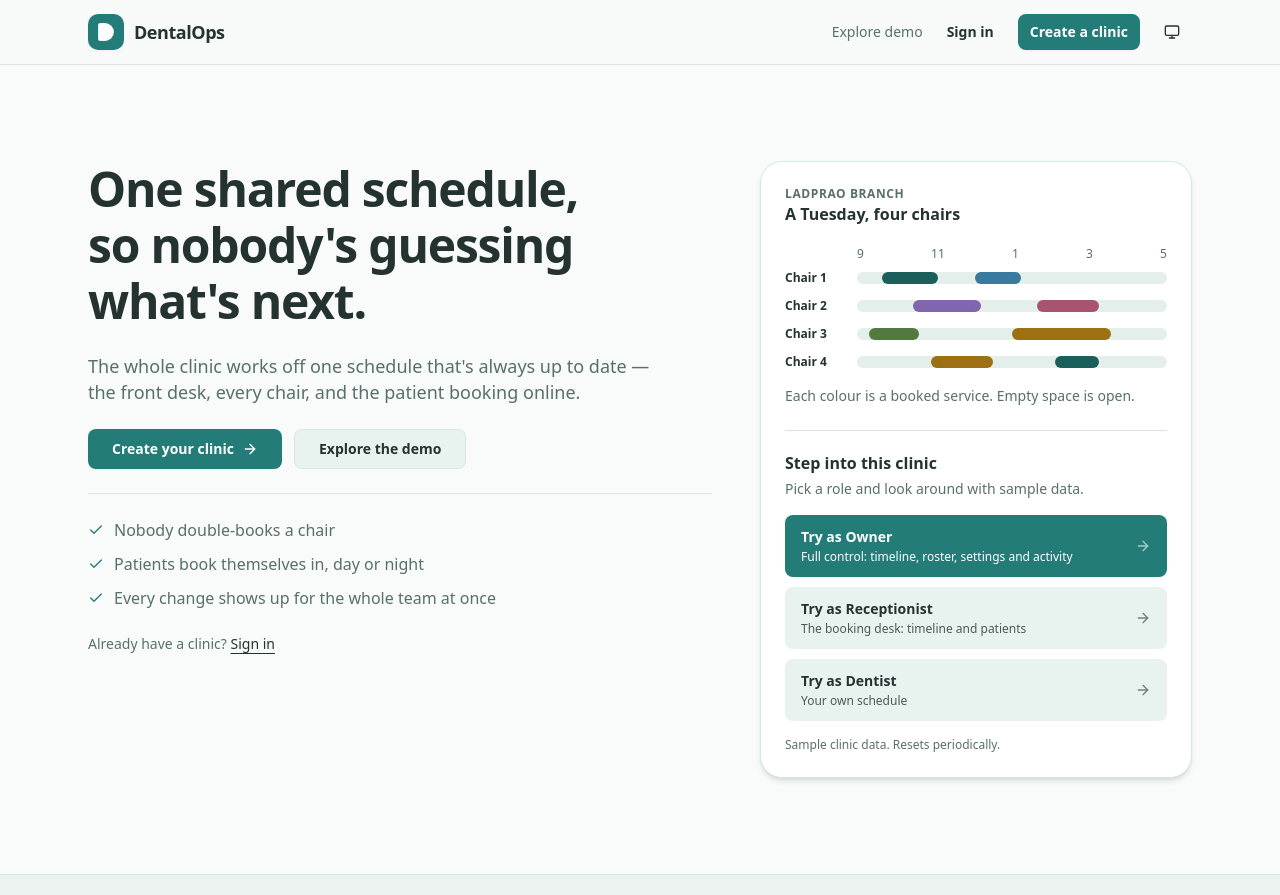
Test case: LandingPage › replaces unavailable demo roles with a recovery state while keeping clinic doors available
Click the button "Try as Owner".
click(976, 546)  # box [785,515,1167,577]
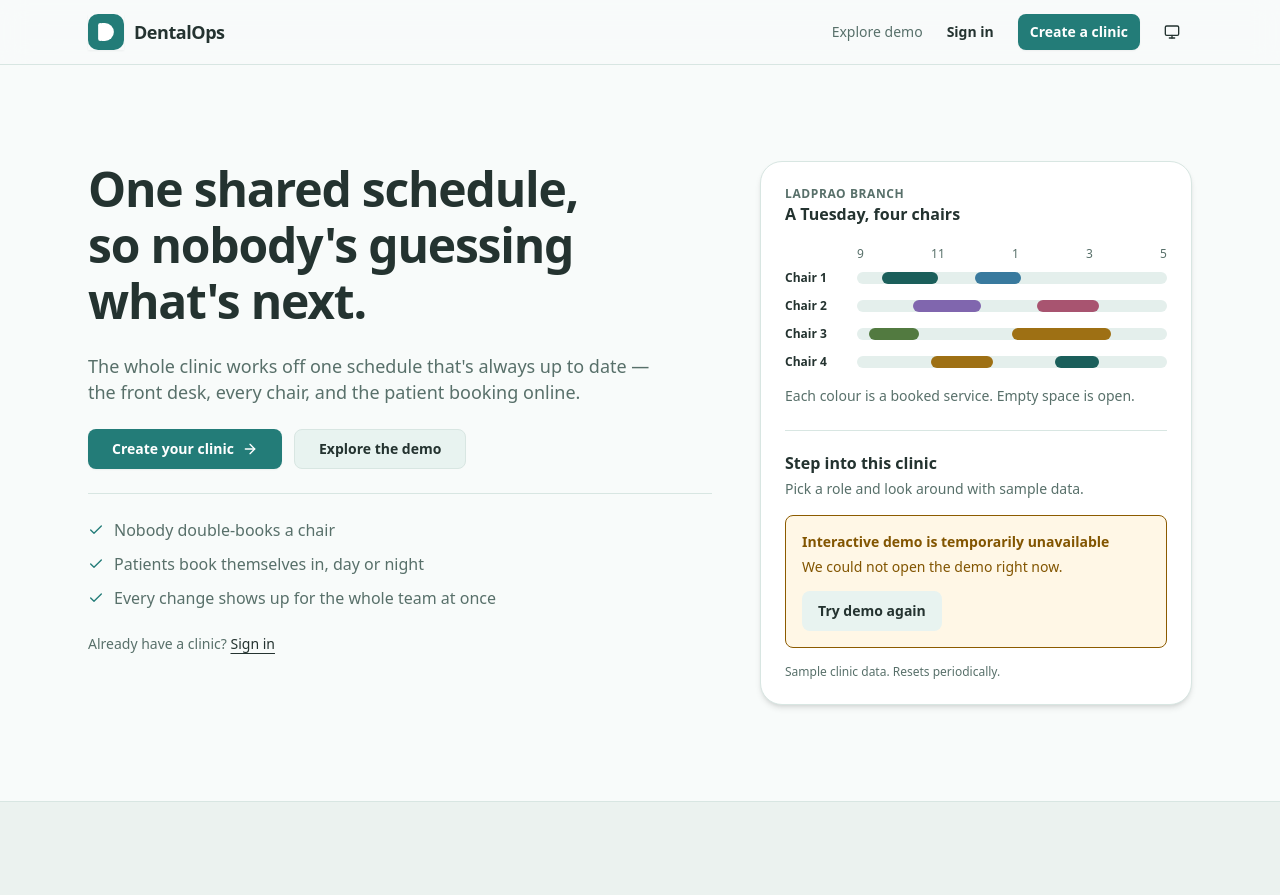
Expected: the message shows "Interactive demo is temporarily unavailable", [802,532,1109,551]
Expected: the button "Try as Owner" is gone
Expected: the button "Try demo again" is shown, [802,591,942,631]
